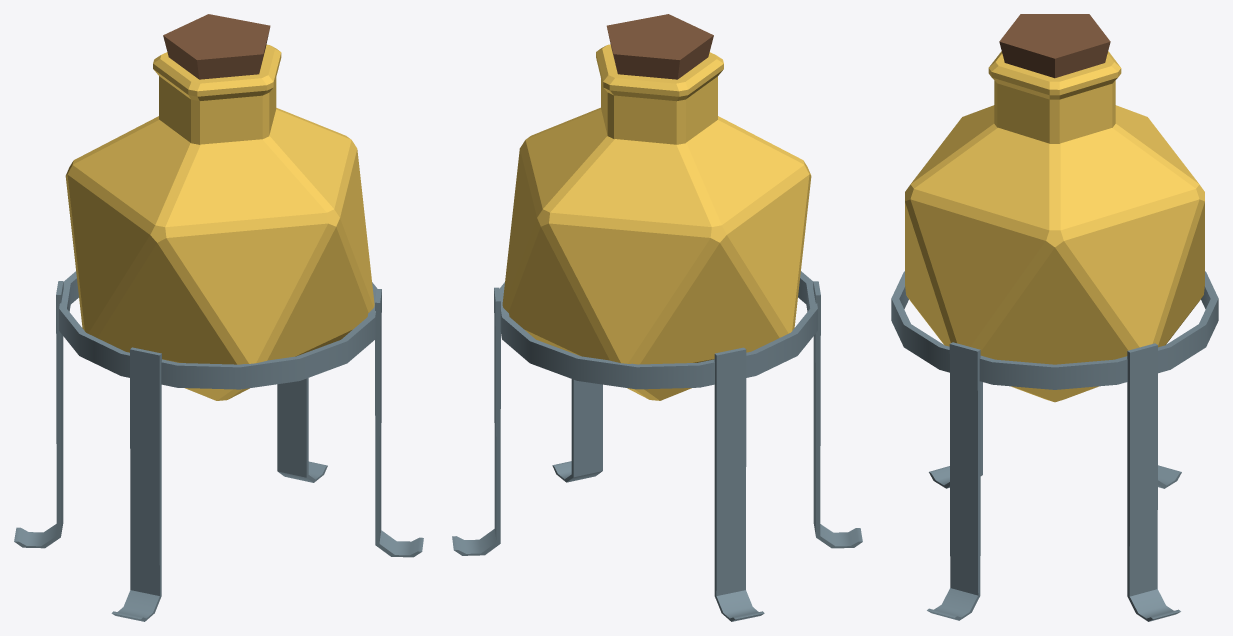
Rendered from Potion_06_Yellow.fbx.
The picture shows the model from 3 angles, left to right: view 1: azimuth 30°, elevation 25°; view 2: azimuth 150°, elevation 25°; view 3: azimuth 270°, elevation 25°; orthographic projection.
Parts seen in each view (by area): view 1: Icosphere.005, Cube.027, Cylinder.034, Cylinder.033, Cylinder.035, Cube.028, Cube.029, Cube.026; view 2: Icosphere.005, Cube.029, Cylinder.034, Cylinder.033, Cylinder.035, Cube.026, Cube.027, Cube.028; view 3: Icosphere.005, Cube.028, Cube.026, Cylinder.034, Cylinder.033, Cylinder.035, Cube.027.
Part boxes in pixels (x1,y1,x2,y2): Icosphere.005: (65, 108, 374, 400); Cube.027: (111, 347, 161, 621); Cylinder.034: (153, 44, 281, 144); Cylinder.033: (59, 271, 377, 389); Cylinder.035: (163, 14, 270, 79); Cube.028: (277, 378, 327, 482); Cube.029: (14, 281, 63, 548); Cube.026: (375, 289, 423, 557); Icosphere.005: (502, 107, 811, 400); Cube.029: (714, 347, 764, 621); Cylinder.034: (596, 44, 723, 144); Cylinder.033: (499, 271, 817, 389); Cylinder.035: (606, 14, 713, 79); Cube.026: (552, 379, 602, 482); Cube.027: (813, 281, 862, 548); Cube.028: (452, 287, 500, 555); Icosphere.005: (905, 105, 1204, 402); Cube.028: (1127, 343, 1180, 621); Cube.026: (927, 342, 980, 620); Cylinder.034: (988, 51, 1121, 143); Cylinder.033: (891, 271, 1218, 389); Cylinder.035: (999, 14, 1110, 78); Cube.027: (929, 381, 982, 488).
Bounding box in the file's own units: 25.27 × 39.03 × 22.52.
